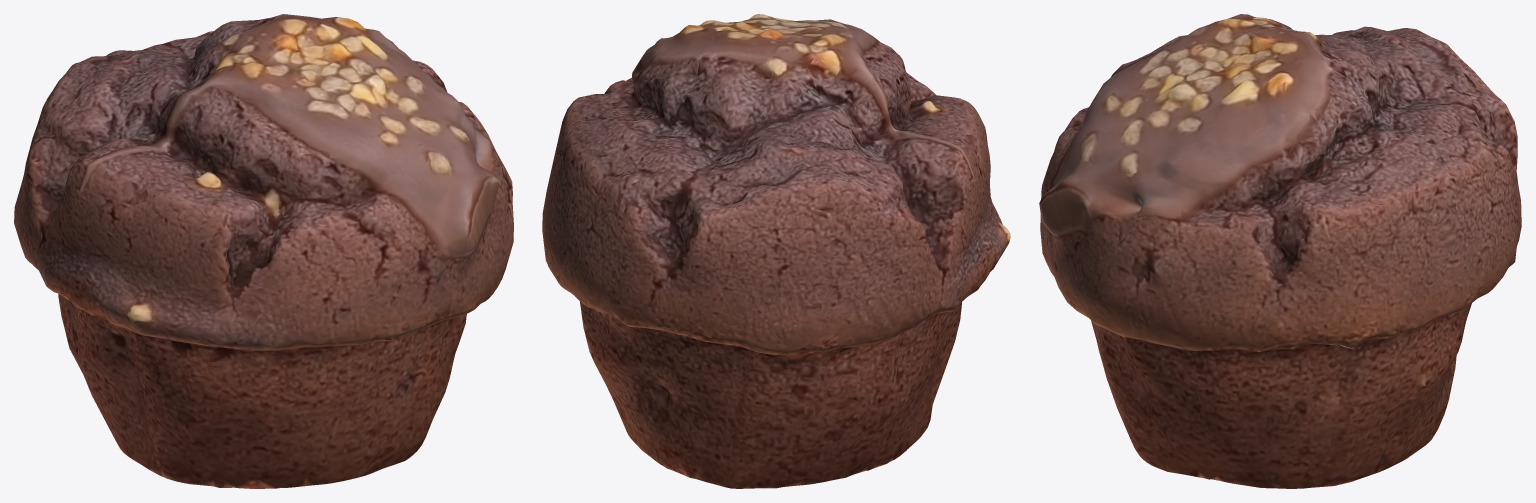
Rendered from muffin_7728.obj.
3 renders of one model, left to right at view 1: azimuth 30°, elevation 25°; view 2: azimuth 150°, elevation 25°; view 3: azimuth 270°, elevation 25°, orthographic. The views are drawn at different scales.
Bounding box in the file's own units: 14.21 × 13.01 × 14.4.
1 material, 1 textured.
